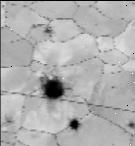good_void: (36, 69, 74, 105), (40, 21, 57, 39), (66, 114, 83, 132), (0, 111, 16, 127), (125, 121, 135, 129), (109, 82, 117, 91), (94, 21, 97, 27)
